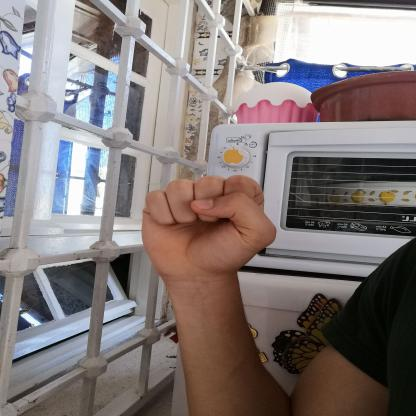SAD: (124, 166, 288, 292)
